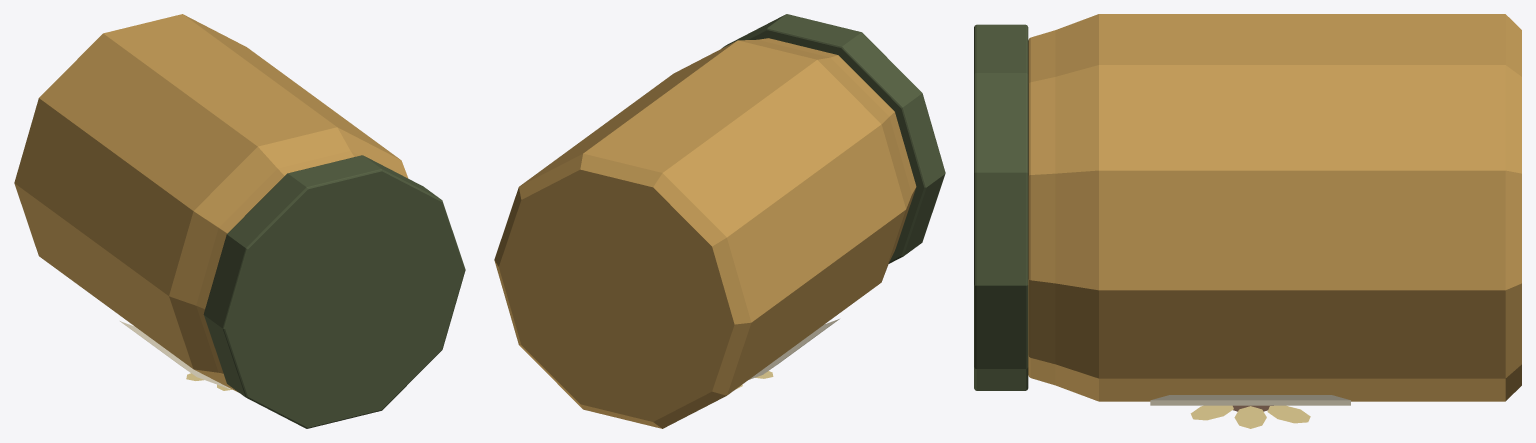
Rendered from sunflower_seed_butter.glb.
3 renders of one model, left to right at view 1: azimuth 30°, elevation 25°; view 2: azimuth 150°, elevation 25°; view 3: azimuth 270°, elevation 25°, orthographic. The views are drawn at different scales.
Visible parts, largest first — view 1: sunflower_seed_butter; view 2: sunflower_seed_butter; view 3: sunflower_seed_butter.
Part boxes in pixels (<box>): sunflower_seed_butter: <box>14,14,465,428</box>; sunflower_seed_butter: <box>494,14,945,428</box>; sunflower_seed_butter: <box>974,14,1521,428</box>.
Size of the model in its own units: 0.072 by 0.0732 by 0.101.
